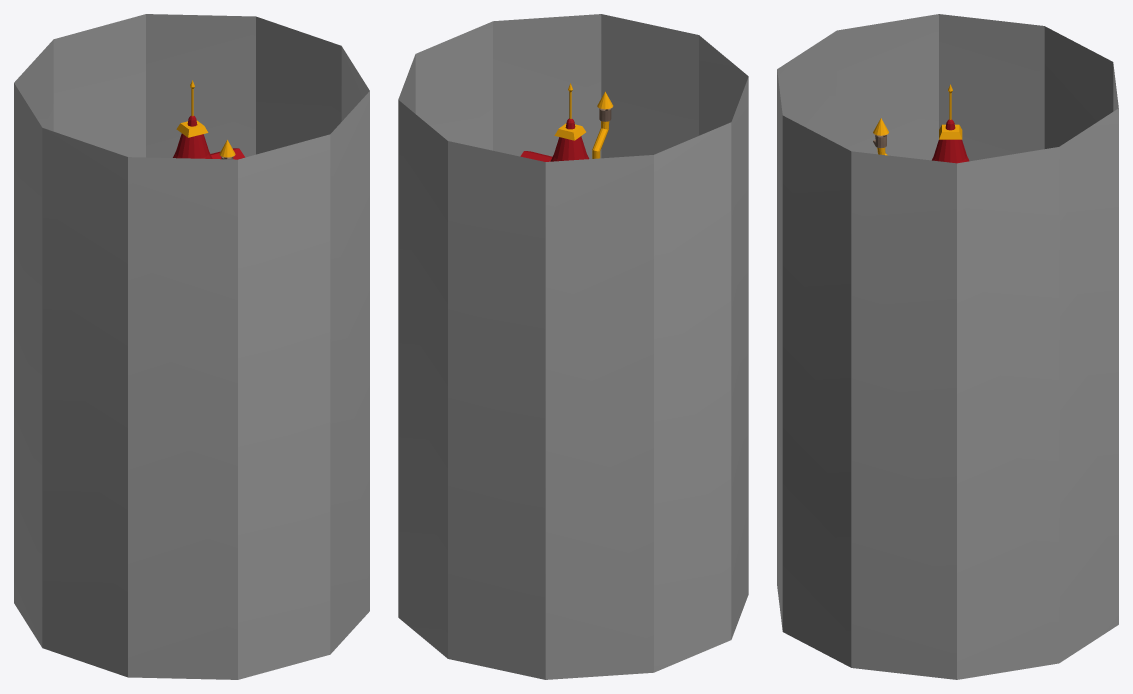
The model's file is tower level (2).fbx.
The picture shows the model from 3 angles, left to right: view 1: azimuth 30°, elevation 25°; view 2: azimuth 150°, elevation 25°; view 3: azimuth 270°, elevation 25°; orthographic projection.
Parts seen in each view (by area): view 1: pCylinder1, Potion_Shop_Tower_usdz:Mesh; view 2: pCylinder1, Potion_Shop_Tower_usdz:Mesh; view 3: pCylinder1, Potion_Shop_Tower_usdz:Mesh.
Part boxes in pixels (box(x1,y1,x2,y2)): pCylinder1: box(14, 14, 369, 679); Potion_Shop_Tower_usdz:Mesh: box(173, 80, 245, 159); pCylinder1: box(398, 14, 748, 679); Potion_Shop_Tower_usdz:Mesh: box(520, 83, 613, 161); pCylinder1: box(777, 14, 1118, 679); Potion_Shop_Tower_usdz:Mesh: box(873, 84, 969, 163).
Size of the model in its own units: 1863 by 3128 by 1801.
